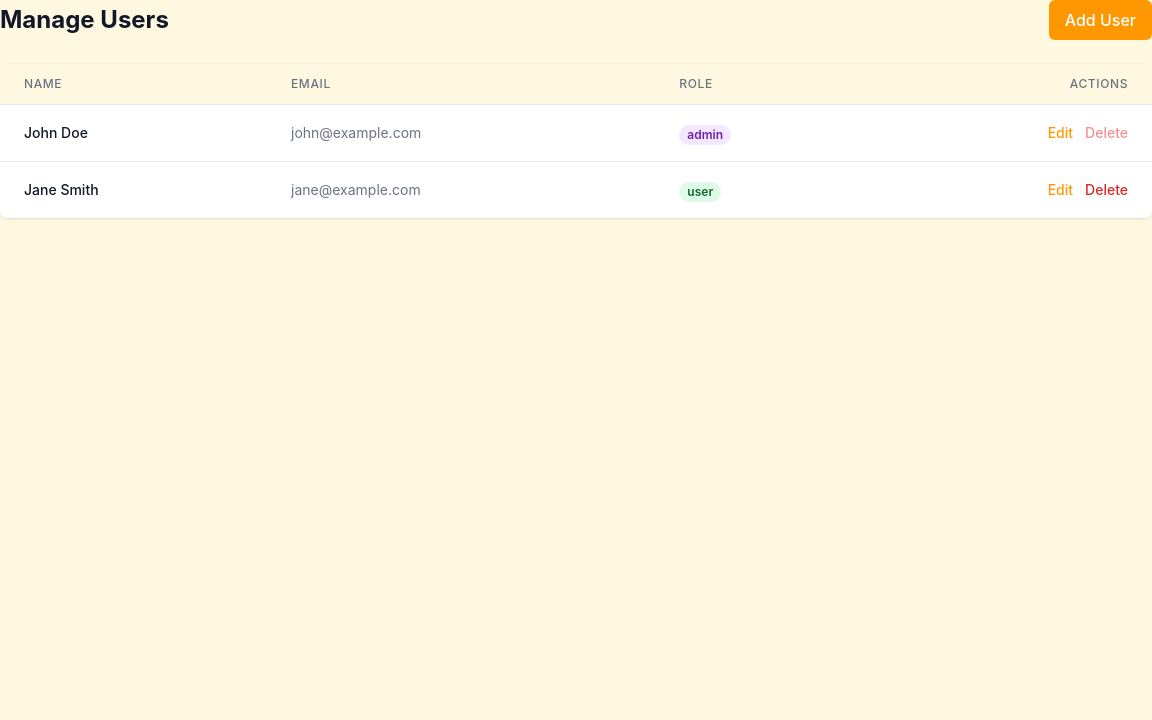
Test: ManageUsers Component › opens edit user modal
// Find and click the "Edit" button for the first user
Click the button "Edit" in the row of "John Doe" at coordinates (1060, 133), box x1=1048 y1=123 x2=1073 y2=143
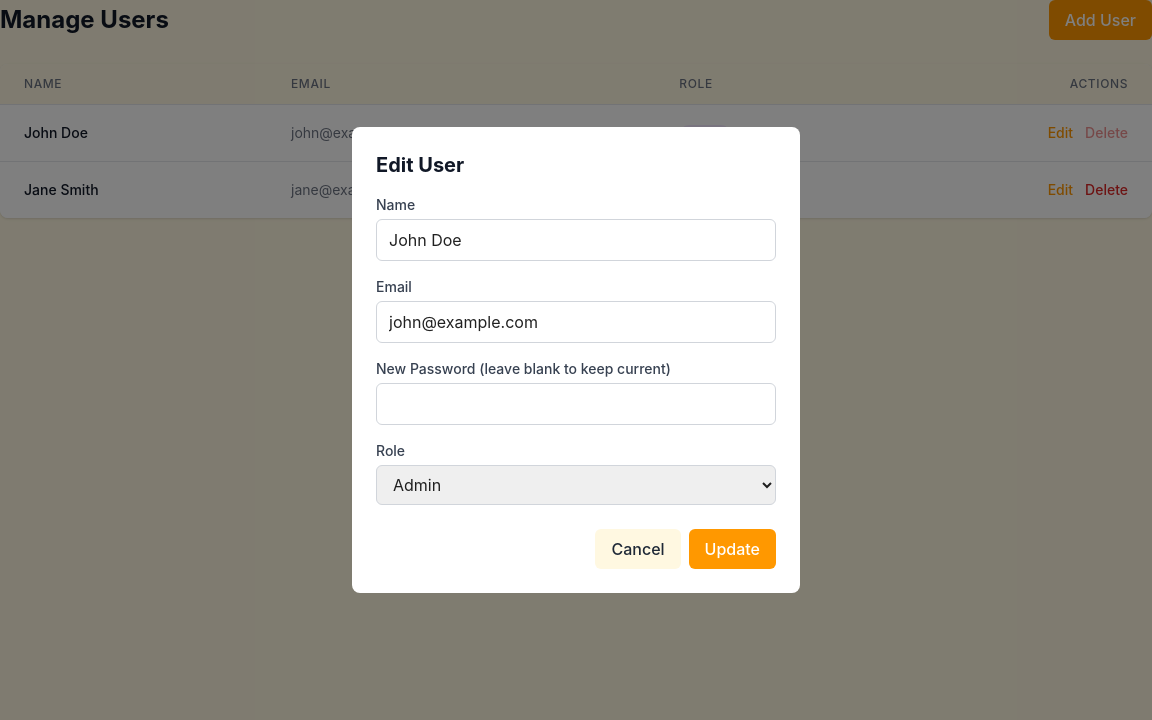
Check: the heading "Edit User" is shown, box x1=376 y1=153 x2=464 y2=177
Check: the field labelled "Name" holds "John Doe", box x1=376 y1=219 x2=776 y2=261
Check: the field labelled "Email" holds "john@example.com", box x1=376 y1=301 x2=776 y2=343
